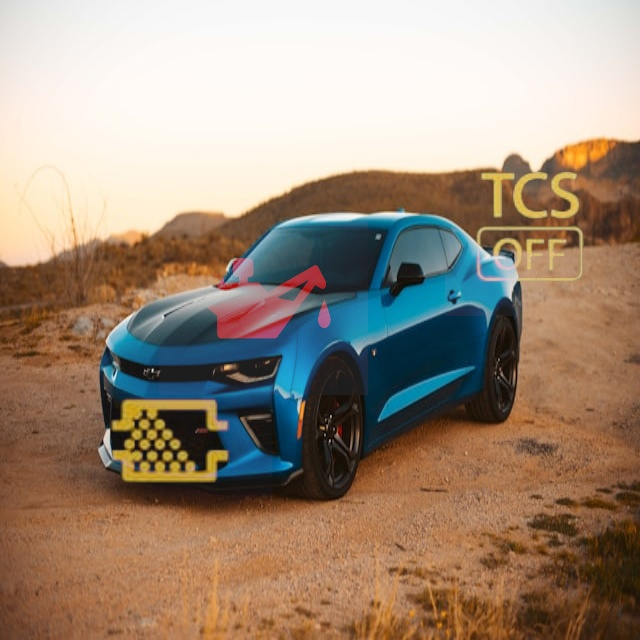symbol: (159, 186, 368, 395), (70, 341, 272, 543), (445, 142, 619, 316)
